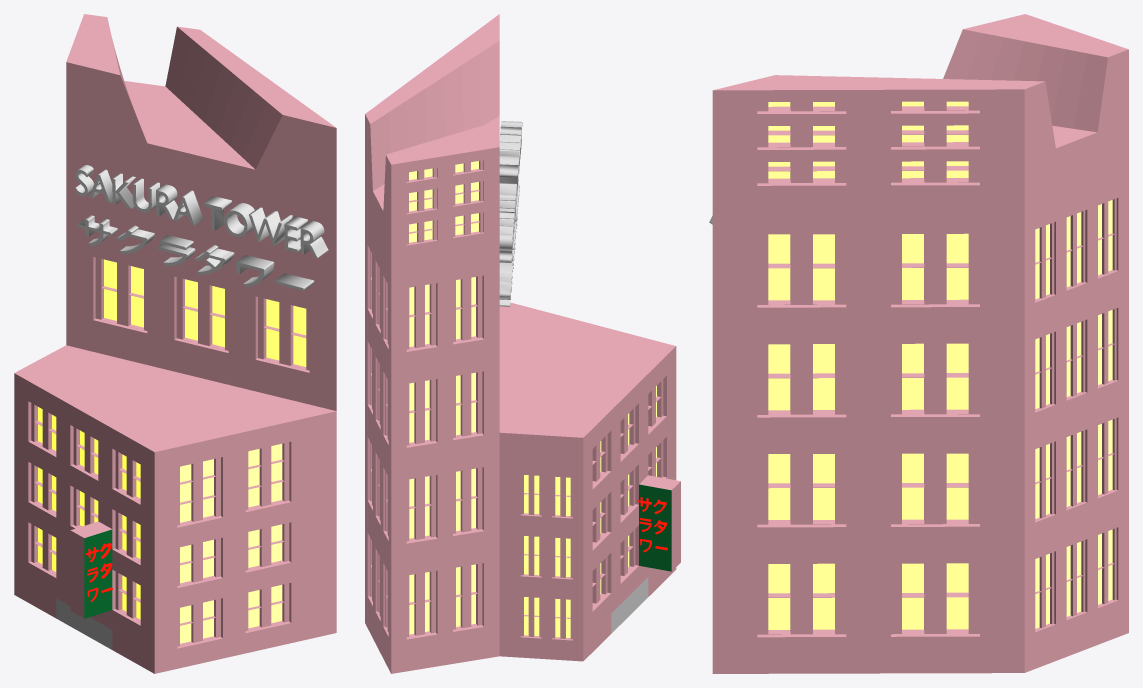
Rendered from sakura_tower.fbx.
3 views of the same model, side by side, from view 1: azimuth 30°, elevation 25°; view 2: azimuth 150°, elevation 25°; view 3: azimuth 270°, elevation 25° (orthographic). The views are drawn at different scales.
Visible parts, largest first — view 1: sakura_tower; view 2: sakura_tower; view 3: sakura_tower.
Part boxes in pixels (bbox=[...]): sakura_tower: bbox=[14, 14, 336, 673]; sakura_tower: bbox=[365, 14, 680, 673]; sakura_tower: bbox=[709, 14, 1128, 673].
Bounding box in the file's own units: 619 × 1366 × 891.
